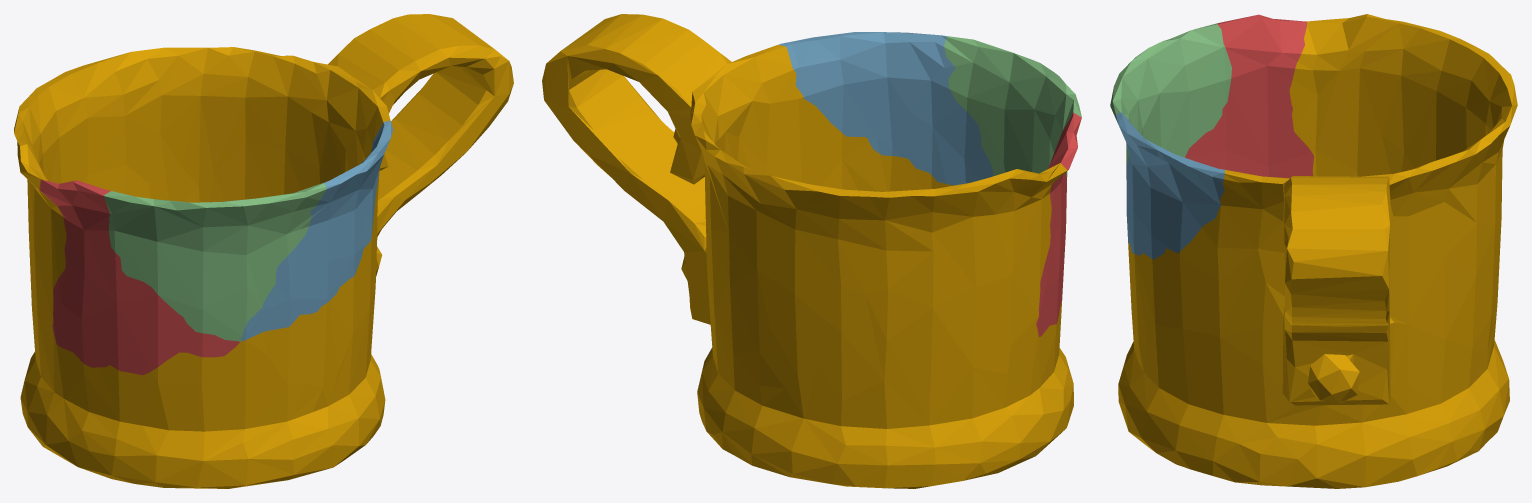
Rendered from fractured_8_4pcs.glb.
3 renders of one model, left to right at view 1: azimuth 30°, elevation 25°; view 2: azimuth 150°, elevation 25°; view 3: azimuth 270°, elevation 25°, orthographic. The views are drawn at different scales.
Parts seen in each view (by area): view 1: piece_0.obj, piece_3.obj, piece_1.obj, piece_2.obj; view 2: piece_0.obj, piece_2.obj, piece_3.obj, piece_1.obj; view 3: piece_0.obj, piece_1.obj, piece_3.obj, piece_2.obj.
Part boxes in pixels (x1,y1,x2,y2): piece_0.obj: (14,14,513,488); piece_3.obj: (104,183,326,341); piece_1.obj: (39,179,239,375); piece_2.obj: (240,120,393,341); piece_0.obj: (542,14,1073,488); piece_2.obj: (778,32,993,185); piece_3.obj: (944,36,1081,176); piece_1.obj: (1036,112,1081,337); piece_0.obj: (1118,14,1517,488); piece_1.obj: (1185,14,1313,178); piece_3.obj: (1110,23,1231,165); piece_2.obj: (1115,112,1224,259).
Size of the model in its own units: 1 by 0.6464 by 0.6966.
